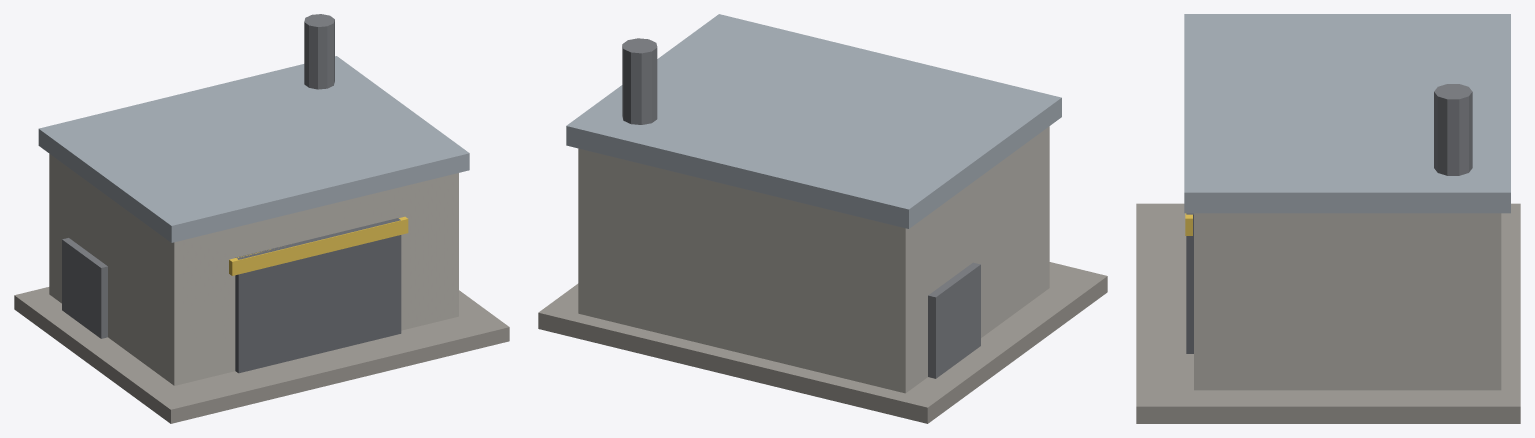
File: Bldg_WarFactory.fbx
3 renders of one model, left to right at view 1: azimuth 30°, elevation 25°; view 2: azimuth 150°, elevation 25°; view 3: azimuth 270°, elevation 25°, orthographic. The views are drawn at different scales.
Visible parts, largest first — view 1: Body.007; view 2: Body.007; view 3: Body.007.
Boxes of the visible parts, x1,y1,x2,y2 form: Body.007: [14, 14, 509, 423]; Body.007: [538, 14, 1107, 423]; Body.007: [1136, 14, 1520, 423].
Bounding box in the file's own units: 5 × 3.4 × 4.
